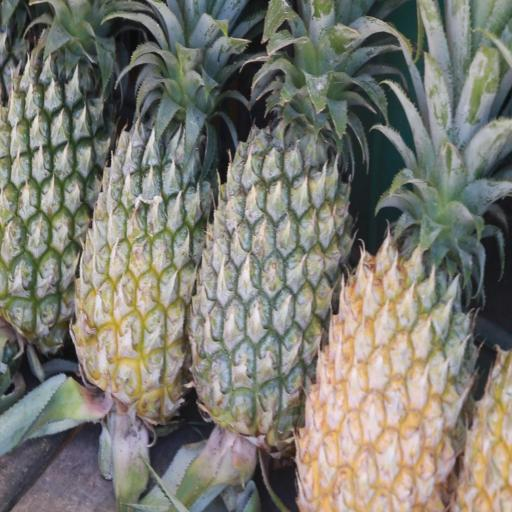------------------------------: (68, 0, 222, 437)
Pineapple - v8 v1: (293, 27, 481, 512)
